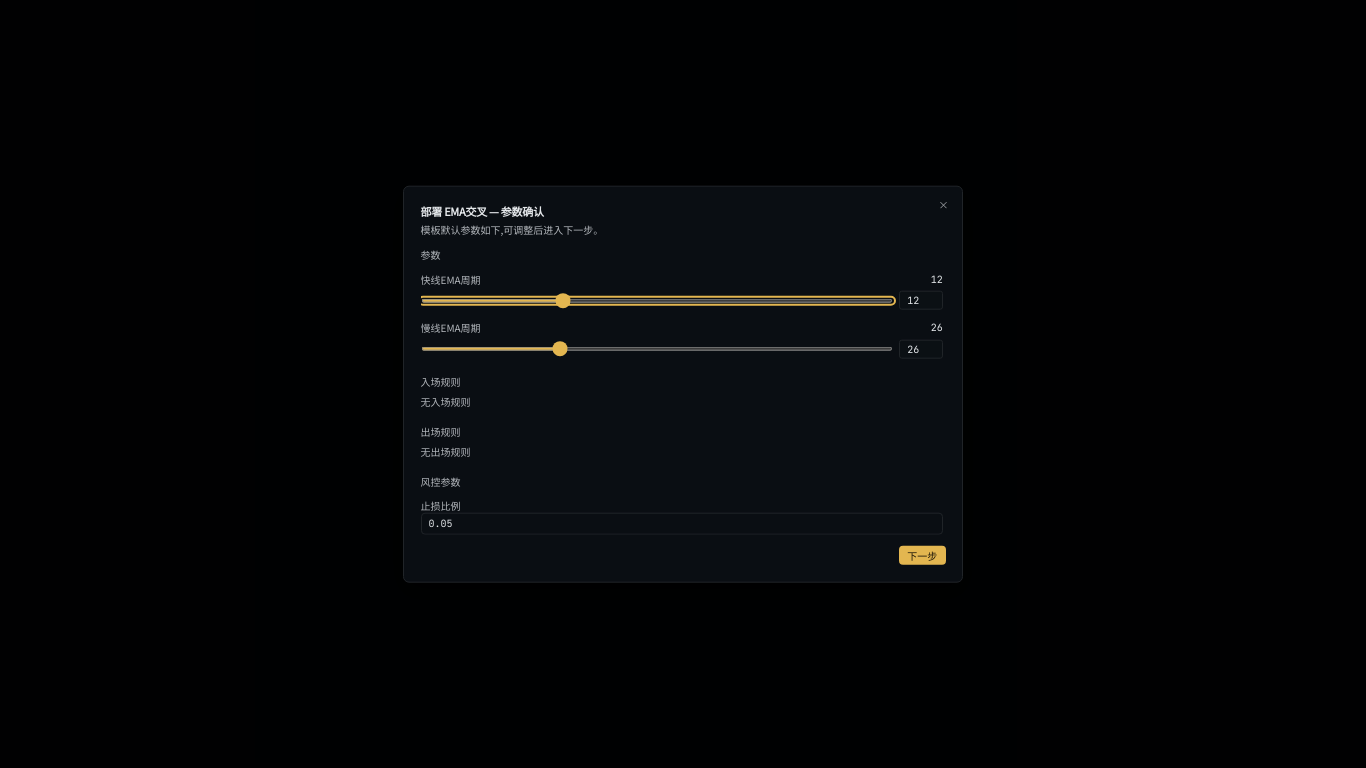
it: DeployWizardDialog US-2 › US-103 结构化错误: runner 失败 → runner_error 全文显示在 dialog 内
The width and height of the screenshot is (1366, 768).
Expected: the text "26" is shown, [931,321,943,335]
Click the button "下一步" at (922, 555), box [899,546,946,565]
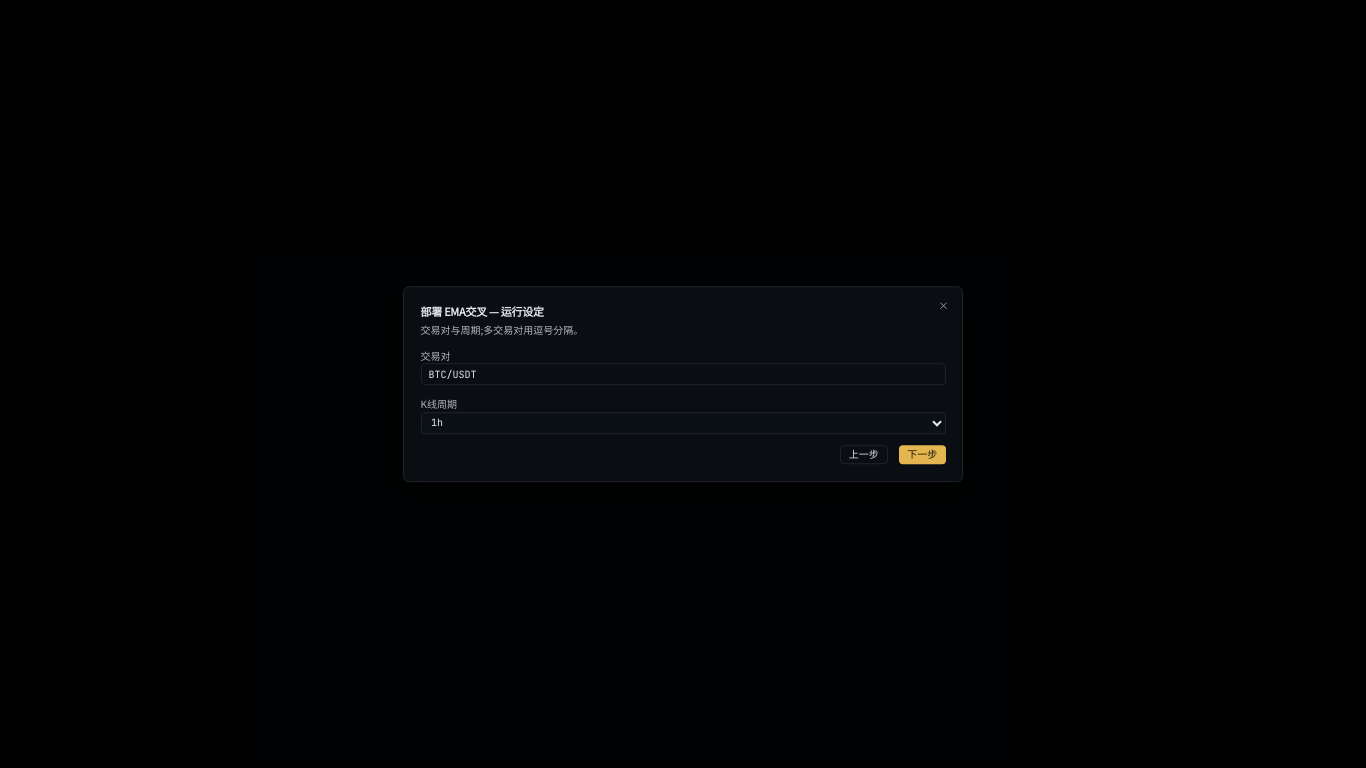
Click the button "下一步" at (922, 455), box [899,445,946,464]
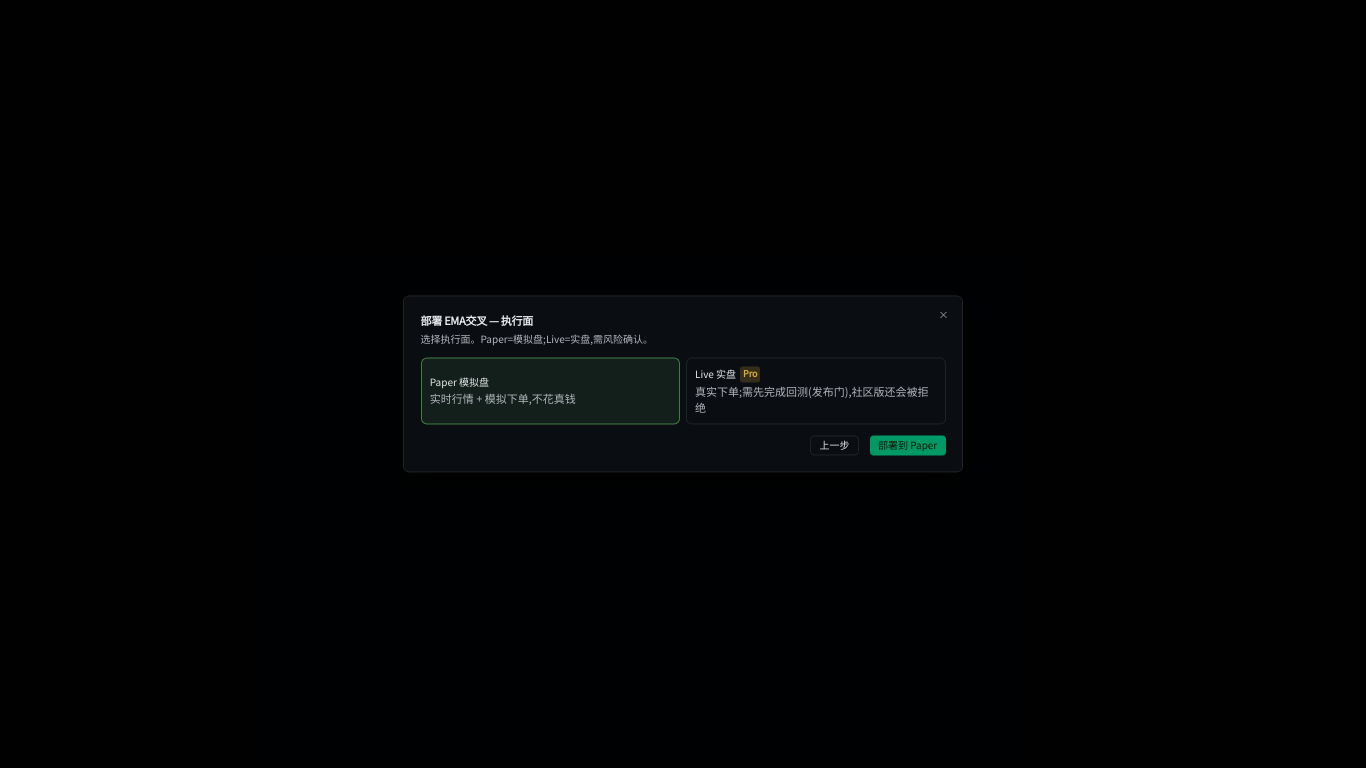
Click the button "部署到 Paper" at (908, 445), box [870,436,946,455]
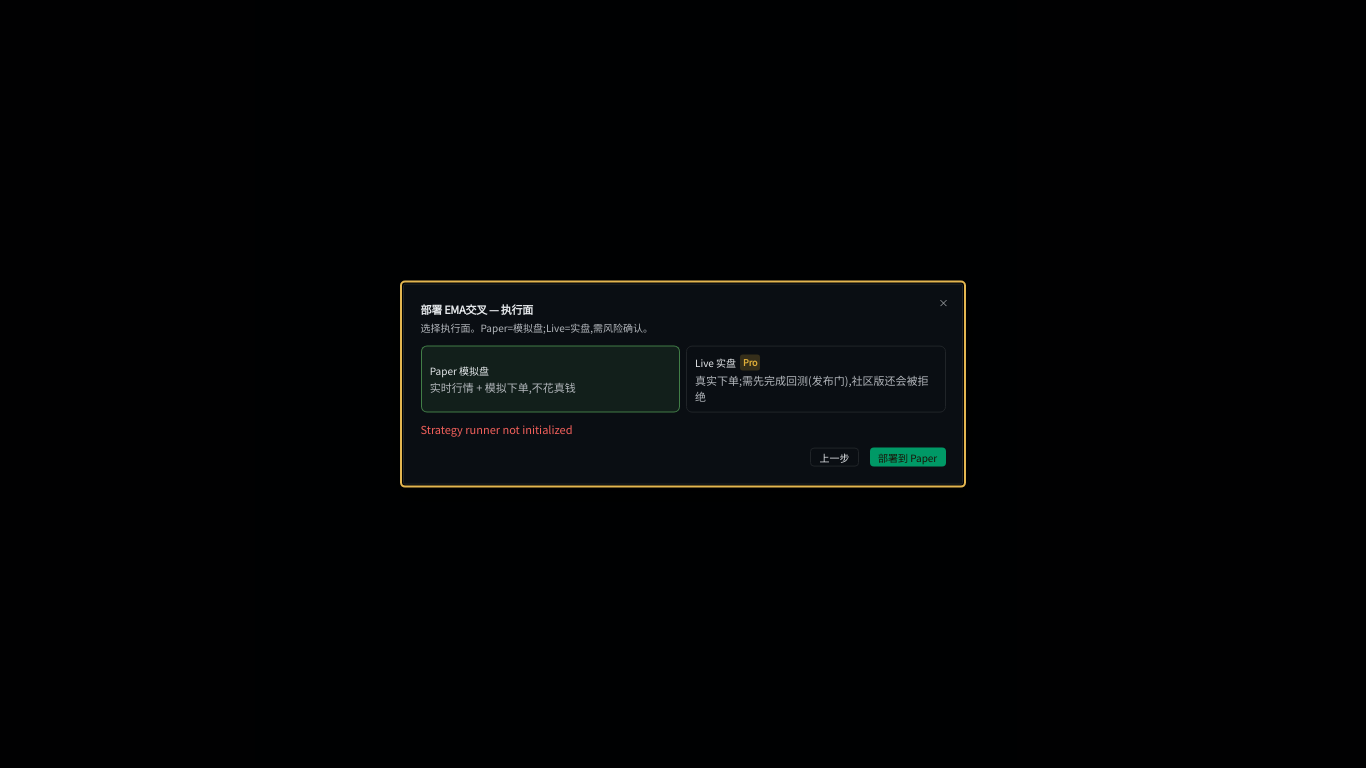
Now the text "Strategy runner not initialized" is shown, box [420,420,572,436]
